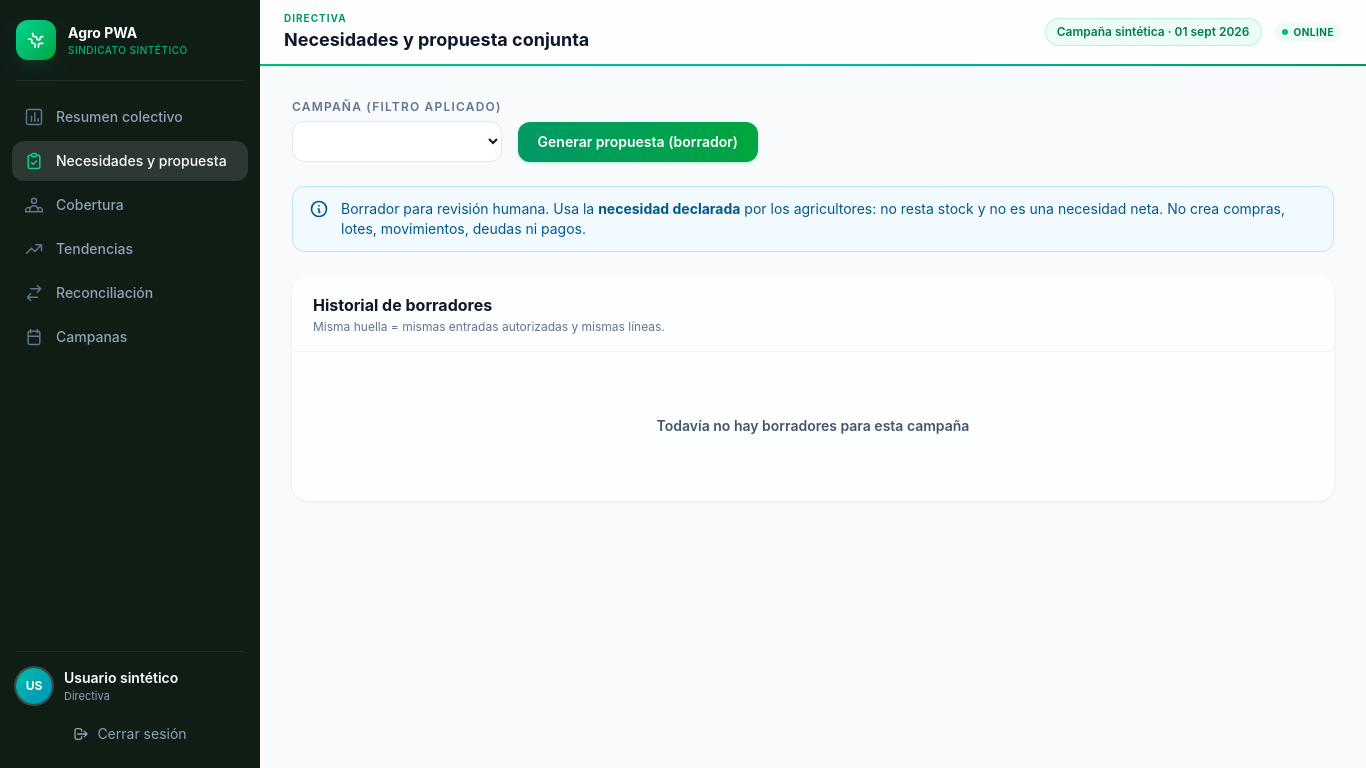
Scenario: Propuesta de compra conjunta (borrador) › un borrador guardado con la regla anterior no se rotula «con cifras publicadas» (F10-SEC-02)
The width and height of the screenshot is (1366, 768).
Click the button "Generar propuesta (borrador)". click: point(638, 142)
box: [518,122,758,162]
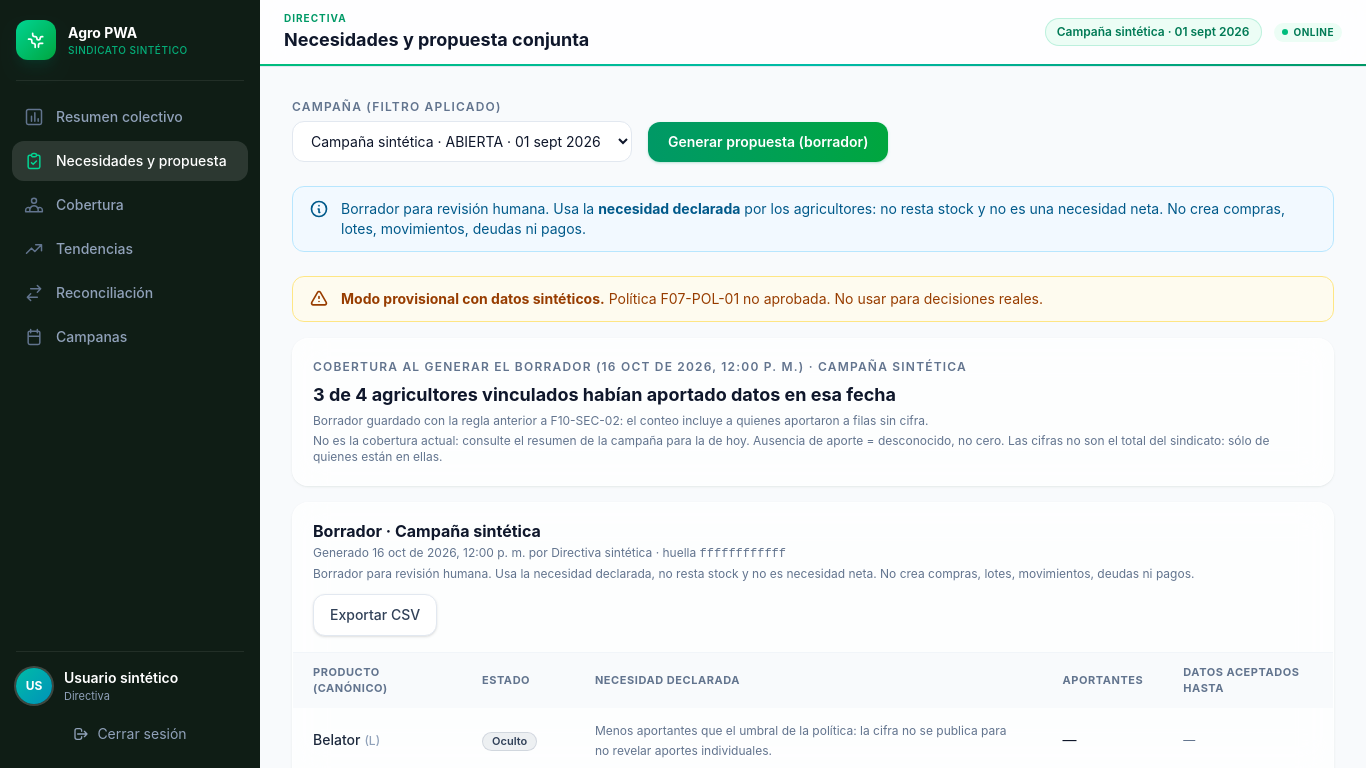
Expected: the element with test id "coverage" shows "3 de 4 agricultores vinculados habían aportado datos en esa fecha", [313,384,896,405]
Expected: the element with test id "coverage" shows "regla anterior a F10-SEC-02", [313,413,928,428]
